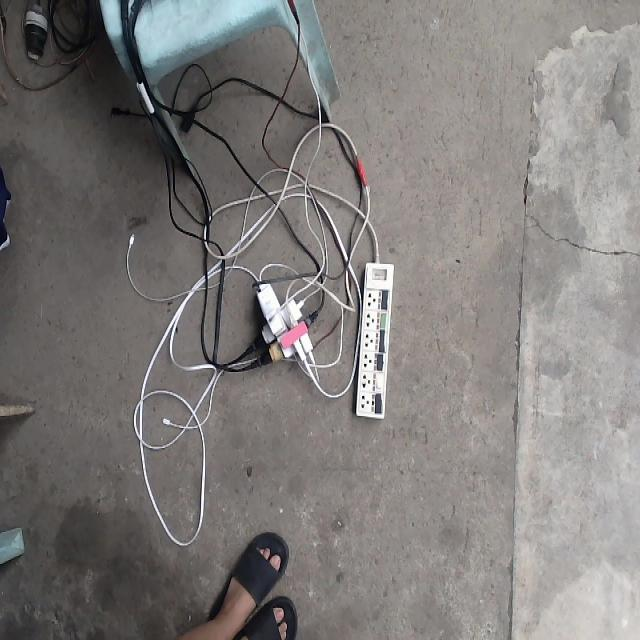-: (248, 263, 324, 377)
